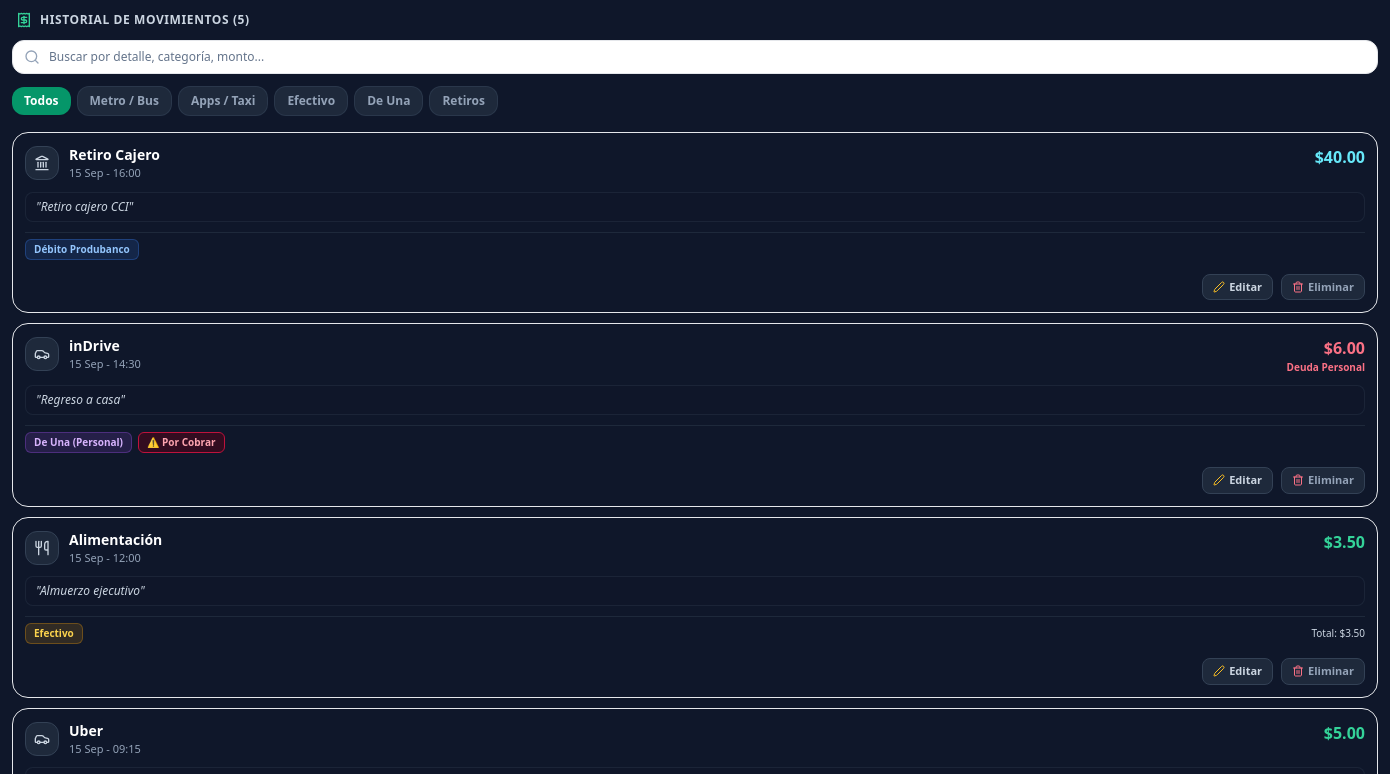
TransactionHistory › filters movements by "Efectivo" tab
Step 1. Click the button "Efectivo" → x=311, y=101, box [274,86,348,116]
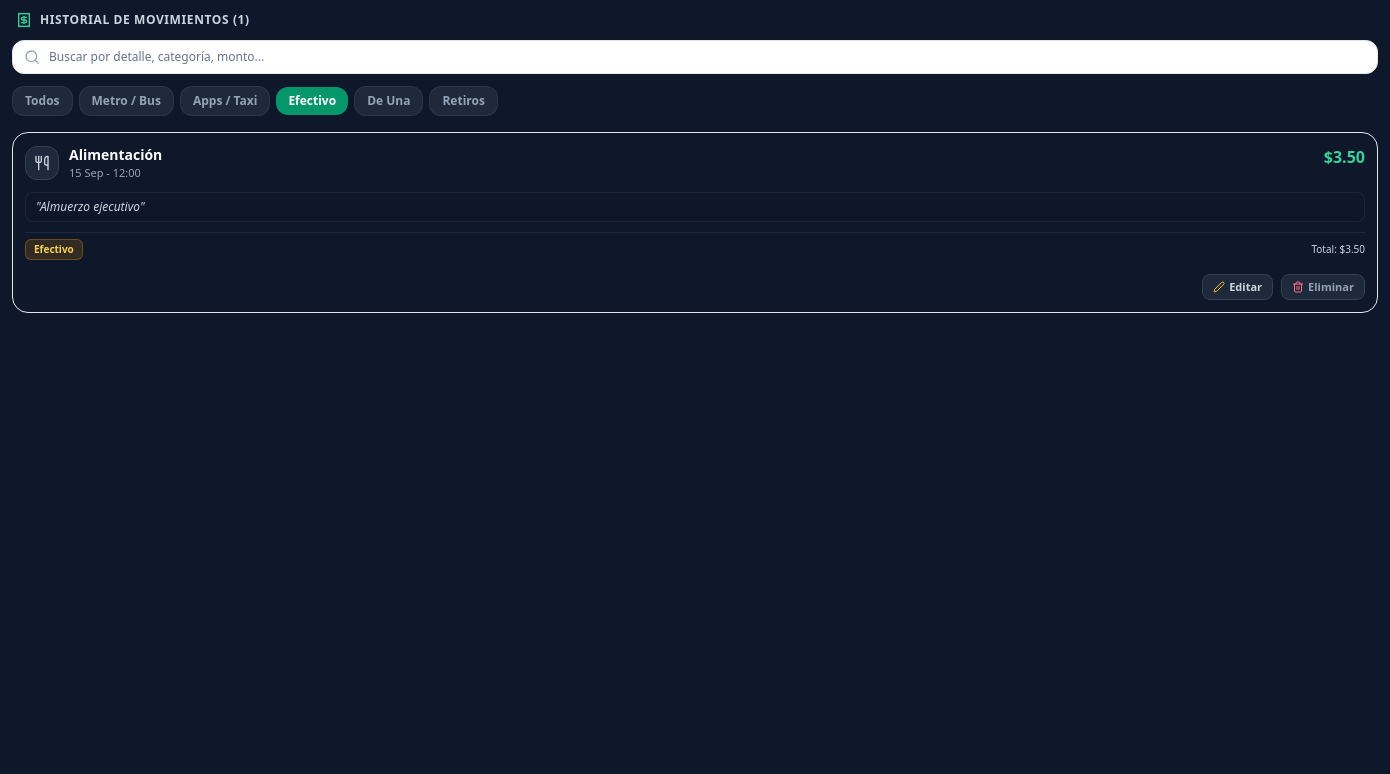
Check: the text "Alimentación" is shown, box [69,145,162,165]
Check: the heading "Historial de Movimientos (1)" is shown, box [40,12,250,28]
Check: the text "Uber" is gone
